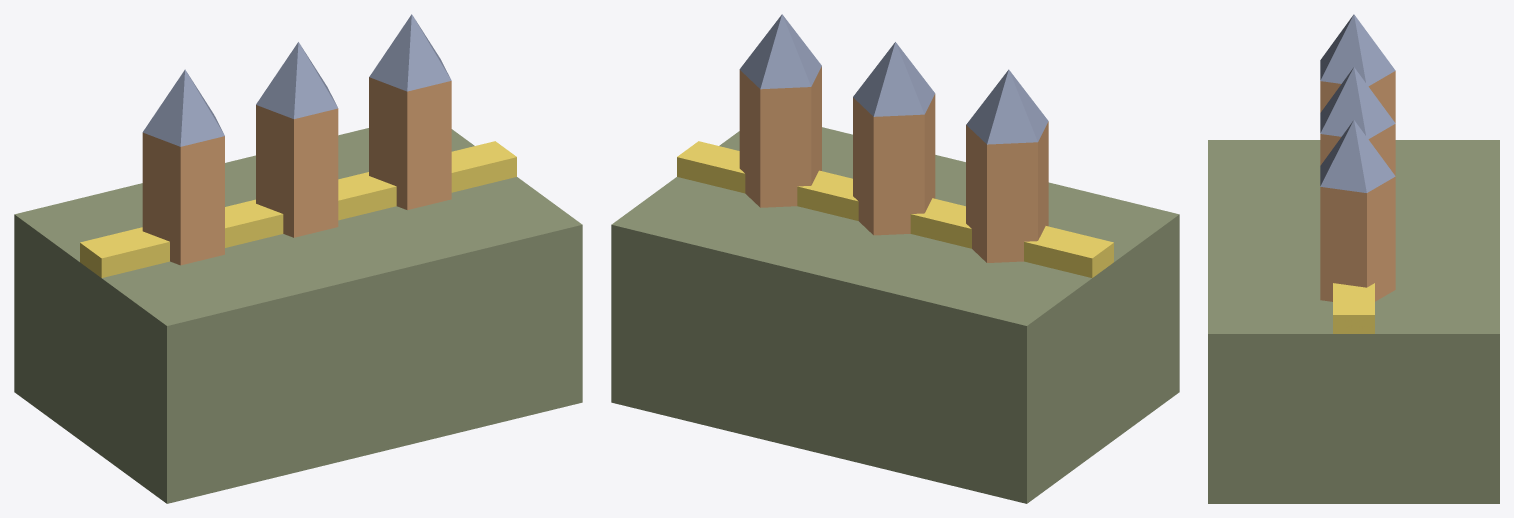
The model's file is municao.glb.
3 views of the same model, side by side, from view 1: azimuth 30°, elevation 25°; view 2: azimuth 150°, elevation 25°; view 3: azimuth 270°, elevation 25° (orthographic). The views are drawn at different scales.
Parts seen in each view (by area): view 1: municao; view 2: municao; view 3: municao.
Part boxes in pixels (<box>): municao: <box>14,14,582,503</box>; municao: <box>611,14,1179,503</box>; municao: <box>1208,14,1499,503</box>.
Bounding box in the file's own units: 0.22 × 0.18 × 0.14.
